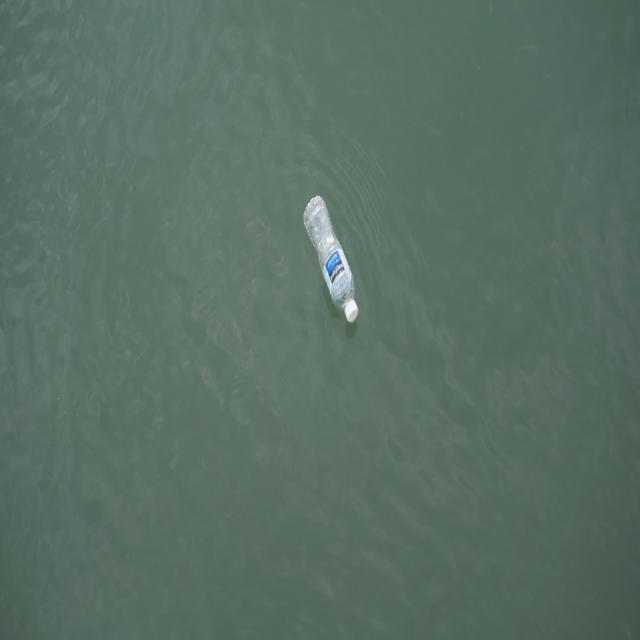Botol Plastik: (299, 192, 364, 333)
